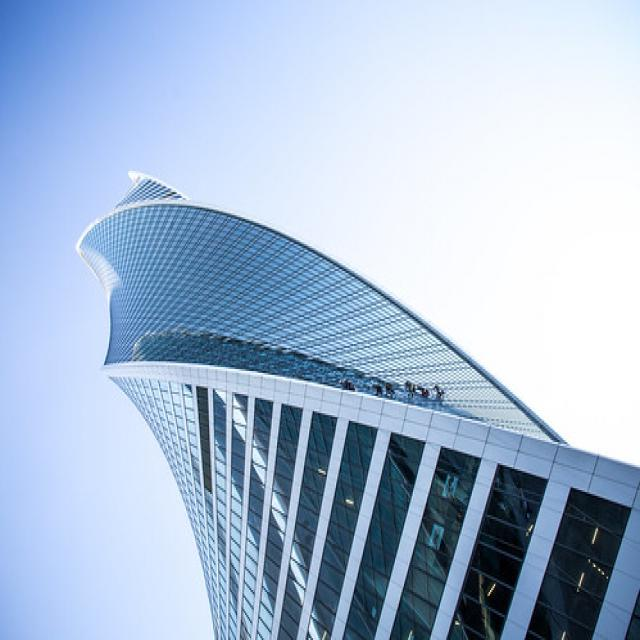Normal_building: (68, 163, 640, 640)
